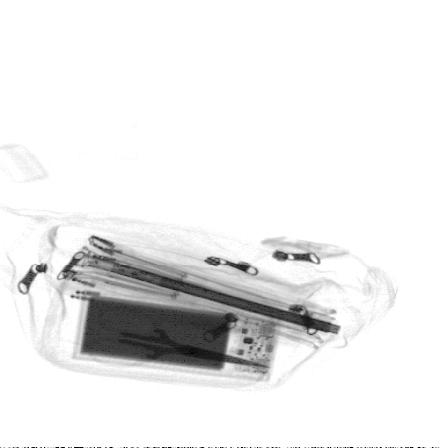Powerbank: (71, 288, 285, 383)
Scissors: (87, 306, 276, 371)
